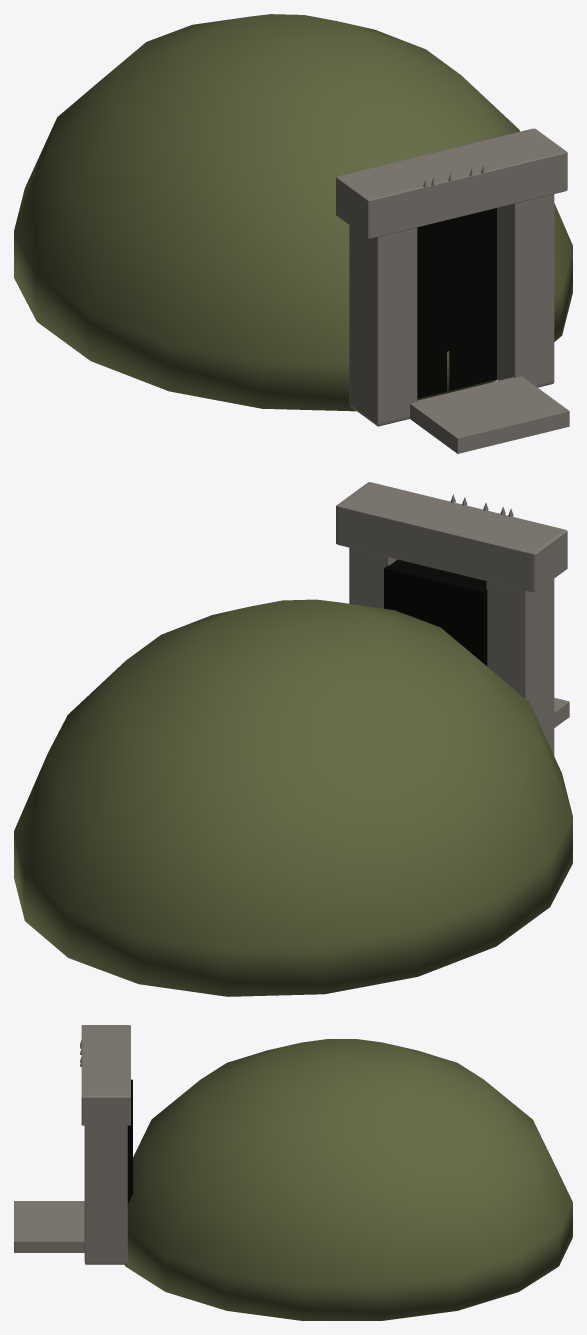
The model's file is grabhuegel_eingang.glb.
3 renders of one model, top to bottom at view 1: azimuth 30°, elevation 25°; view 2: azimuth 150°, elevation 25°; view 3: azimuth 270°, elevation 25°, orthographic. The views are drawn at different scales.
Visible parts, largest first — view 1: Sphere; view 2: Sphere; view 3: Sphere.
Part boxes in pixels (box(x1,y1,x2,y2)): Sphere: box(14, 14, 572, 453); Sphere: box(14, 482, 572, 996); Sphere: box(14, 1025, 572, 1320).
Size of the model in its own units: 3.69 by 1.88 by 5.21.
